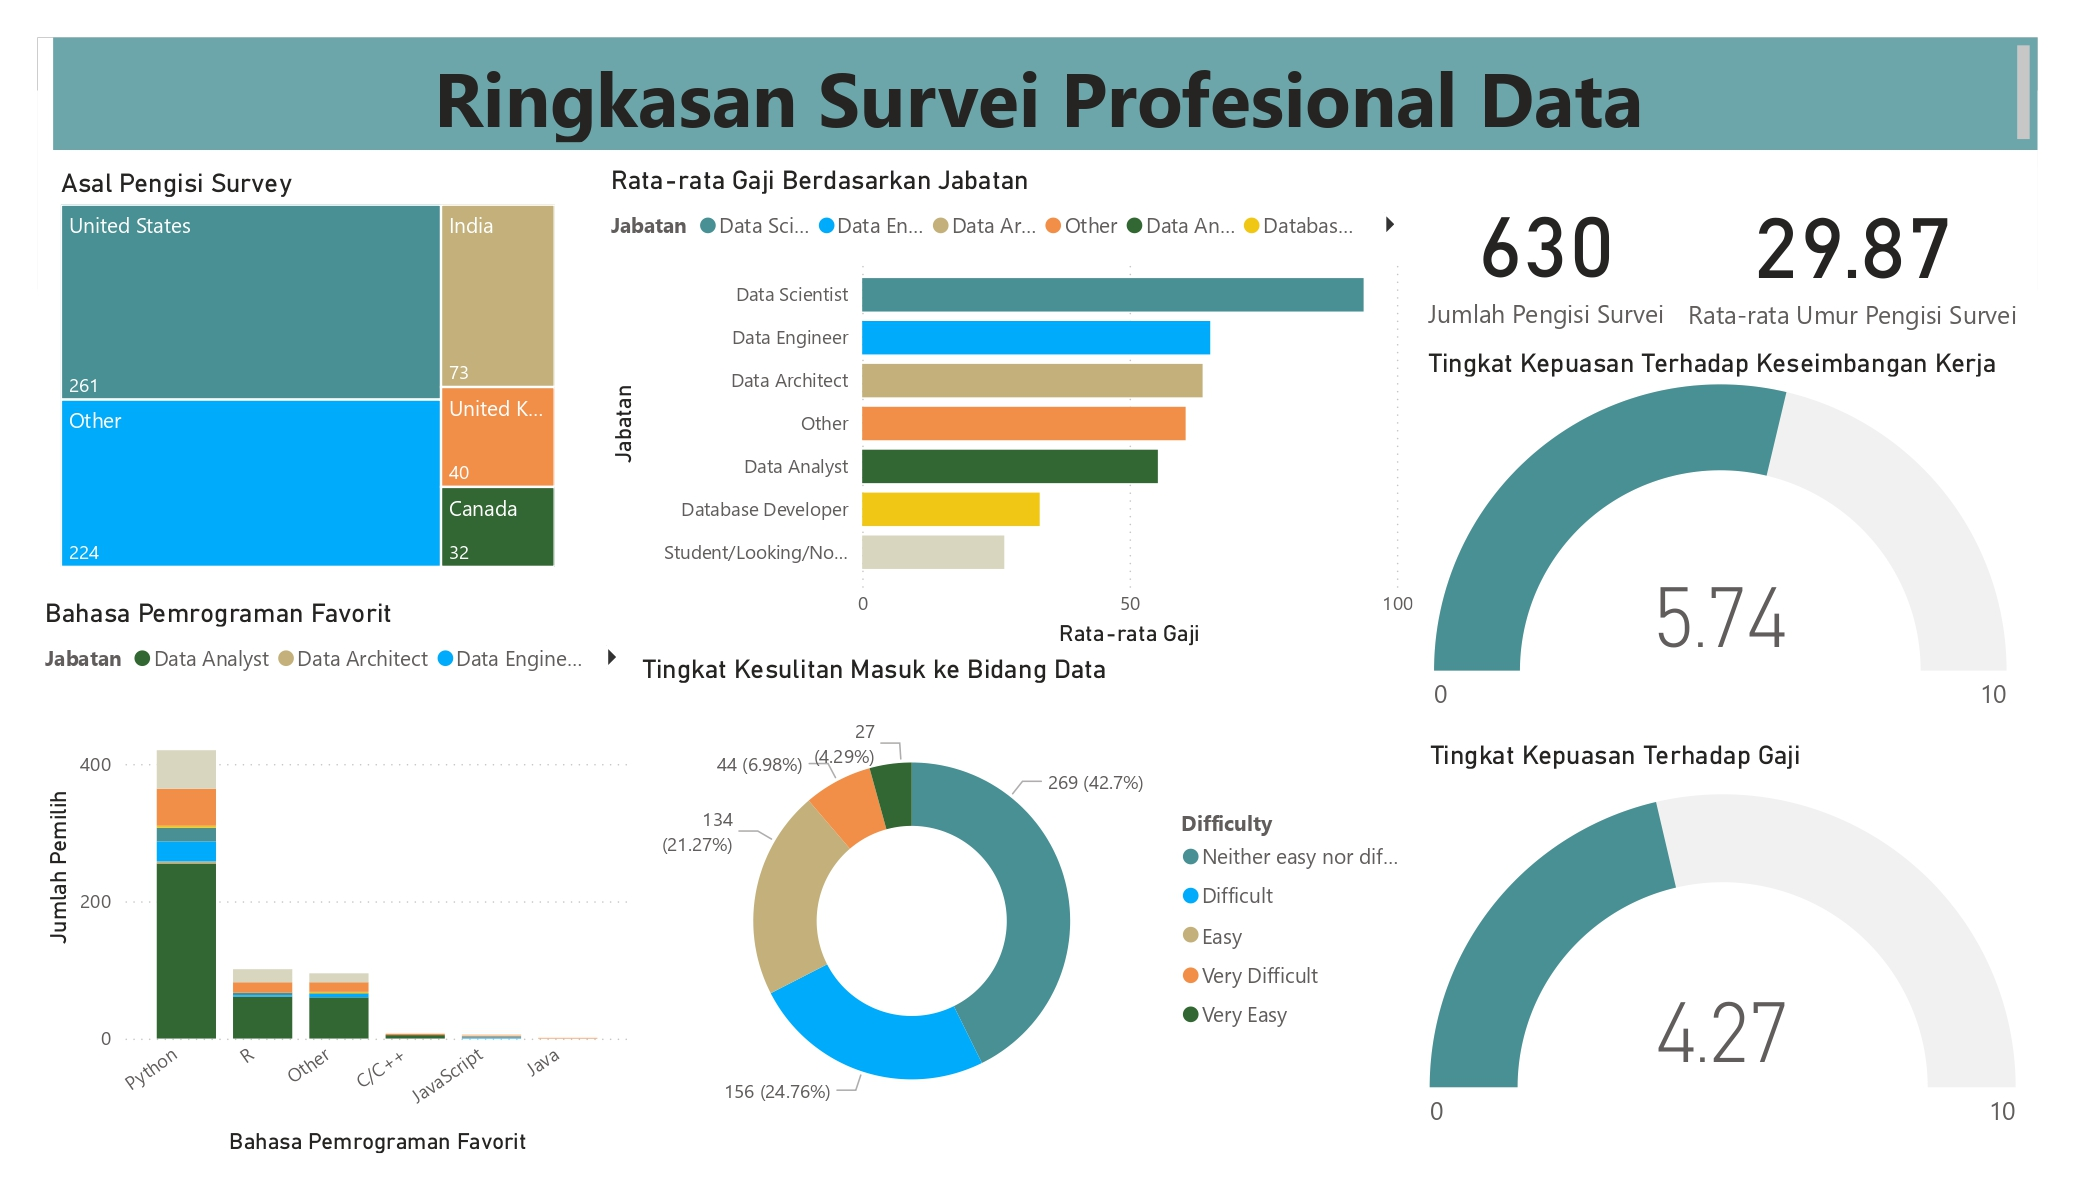

Layout of this report page (visuals, bound fields, positions):
{"tool":"powerbi","page":{"name":"Page 1","canvas":[1280,720],"ordinal":0},"visuals":[{"type":"textbox","box":[10.2,0,1270.1,72.1],"z":0},{"type":"card","fields":{"Values":["Count(Data Professional Survey.Unique ID)"]},"box":[869,82.8,193.3,110.4],"z":1000},{"type":"card","fields":{"Values":["Avg(Data Professional Survey.Q10 - Current Age)"]},"box":[1043.4,82.6,236.8,111],"z":2000},{"type":"barChart","title":"Rata-rata Gaji Berdasarkan Jabatan","fields":{"Category":["Data Professional Survey.Q1 - Which Title Best Fits your Current Role?.1"],"Y":["Avg(Data Professional Survey.Average Salary)"],"Series":["Data Professional Survey.Q1 - Which Title Best Fits your Current Role?.1"]},"box":[361.9,81.4,523.2,312.4],"z":3000},{"type":"columnChart","title":"Bahasa Pemrograman Favorit","fields":{"Category":["Data Professional Survey.Q5 - Favorite Programming Language.1"],"Y":["CountNonNull(Data Professional Survey.Unique ID)"],"Series":["Data Professional Survey.Q1 - Which Title Best Fits your Current Role?.1"]},"box":[0,357.8,383.7,361.6],"z":4000},{"type":"treemap","title":"Asal Pengisi Survey","fields":{"Group":["Data Professional Survey.Q11 - Which Country do you live in?.1"],"Values":["CountNonNull(Data Professional Survey.Q11 - Which Country do you live in?.1)"]},"box":[10.2,82.8,325.8,261.6],"z":5000},{"type":"gauge","title":"Tingkat Kepuasan Terhadap Gaji","fields":{"Y":["Avg(Data Professional Survey.Q6 - How Happy are you in your Current Position with the following? (Salary))"],"MinValue":["Min(Data Professional Survey.Q6 - How Happy are you in your Current Position with the following? (Salary))"],"MaxValue":["Max(Data Professional Survey.Q6 - How Happy are you in your Current Position with the following? (Salary))1"]},"box":[886.4,449.3,384.4,270.7],"z":6000},{"type":"gauge","title":"Tingkat Kepuasan Terhadap Keseimbangan Kerja","fields":{"Y":["Avg(Data Professional Survey.Q6 - How Happy are you in your Current Position with the following? (Work/Life Balance))"],"MinValue":["Min(Data Professional Survey.Q6 - How Happy are you in your Current Position with the following? (Work/Life Balance))"],"MaxValue":["Max(Data Professional Survey.Q6 - How Happy are you in your Current Position with the following? (Work/Life Balance))"]},"box":[885,197.6,383.7,244.1],"z":7000},{"type":"donutChart","title":"Tingkat Kesulitan Masuk ke Bidang Data","fields":{"Category":["Data Professional Survey.Q7 - How difficult was it for you to break into Data?"],"Y":["CountNonNull(Data Professional Survey.Q7 - How difficult was it for you to break into Data?)"]},"box":[382.2,393.8,502.8,324.1],"z":8000}]}

Visuals, with their boxes in screenshot pixels (x1, y1, x2, y2):
textbox: bbox=[53, 38, 2038, 150]
card - Count(Data Professional Survey.Unique ID): bbox=[1395, 167, 1697, 339]
card - Avg(Data Professional Survey.Q10 - Current Age): bbox=[1668, 167, 2038, 340]
"Rata-rata Gaji Berdasarkan Jabatan" barChart: bbox=[603, 165, 1420, 653]
"Bahasa Pemrograman Favorit" columnChart: bbox=[38, 597, 637, 1162]
"Asal Pengisi Survey" treemap: bbox=[53, 167, 562, 576]
"Tingkat Kepuasan Terhadap Gaji" gauge: bbox=[1422, 740, 2023, 1162]
"Tingkat Kepuasan Terhadap Keseimbangan Kerja" gauge: bbox=[1420, 346, 2020, 728]
"Tingkat Kesulitan Masuk ke Bidang Data" donutChart: bbox=[635, 653, 1420, 1159]
